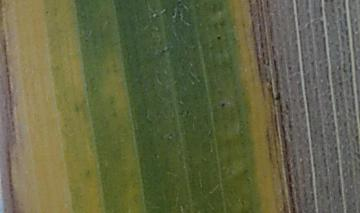tarspot: (221, 102, 226, 109), (216, 35, 221, 40)
